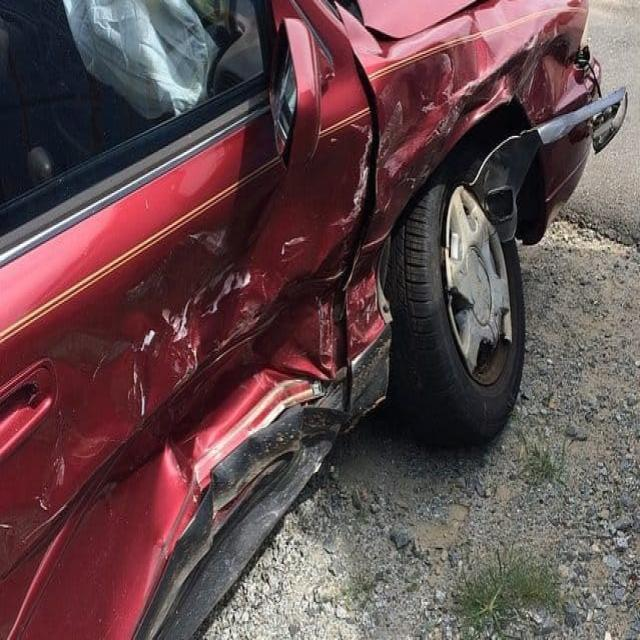accident: (0, 0, 628, 637)
